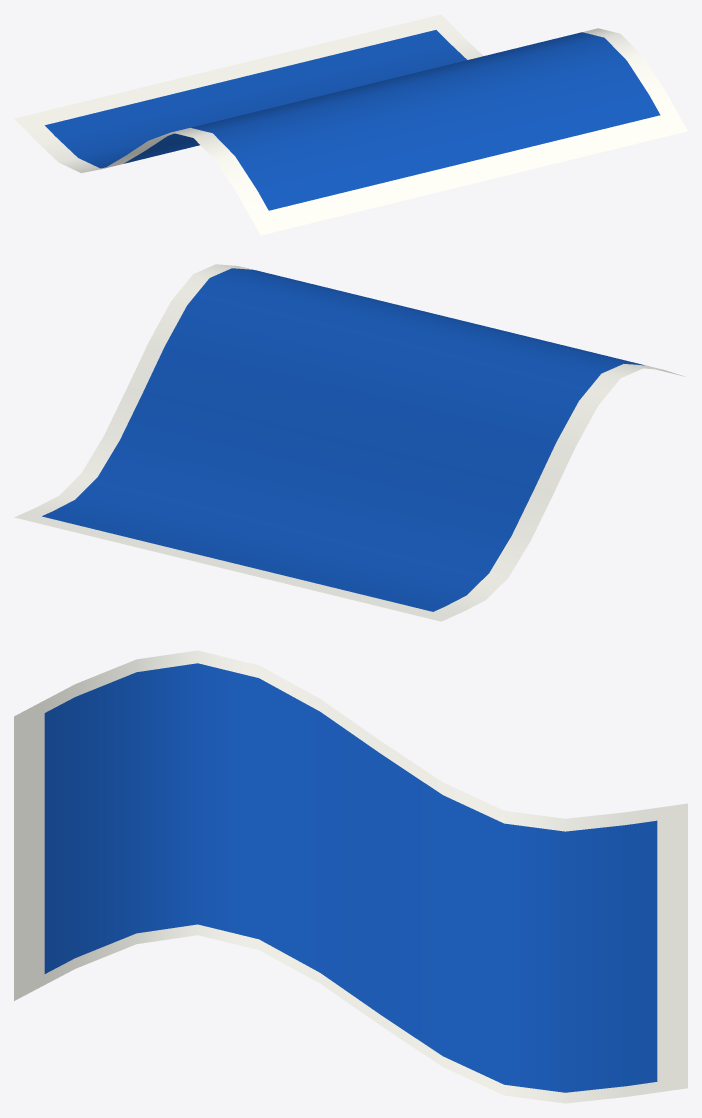
The model's file is BluePrint.fbx.
3 renders of one model, top to bottom at view 1: azimuth 30°, elevation 25°; view 2: azimuth 150°, elevation 25°; view 3: azimuth 270°, elevation 25°, orthographic. The views are drawn at different scales.
Parts seen in each view (by area): view 1: Plane; view 2: Plane; view 3: Plane.
Boxes of the visible parts, bbox=[...] form: Plane: bbox=[14, 14, 687, 235]; Plane: bbox=[14, 264, 685, 621]; Plane: bbox=[14, 650, 687, 1103].
Bounding box in the file's own units: 437 × 120 × 437.
